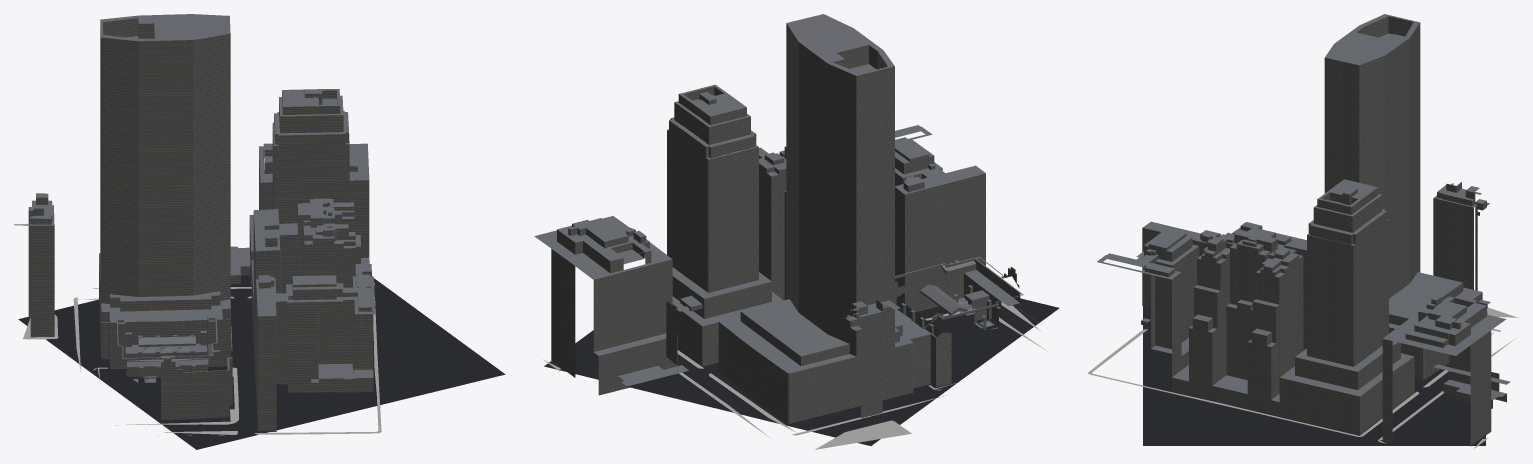
3 renders of one model, left to right at view 1: azimuth 30°, elevation 25°; view 2: azimuth 150°, elevation 25°; view 3: azimuth 270°, elevation 25°, orthographic. The views are drawn at different scales.
Visible parts, largest first — view 1: t6_7, detail; view 2: t6_7, detail; view 3: t6_7, detail.
Boxes of the visible parts, x1,y1,x2,y2 form: t6_7: (14,14,505,449); detail: (23,282,381,435); t6_7: (534,14,1059,445); detail: (543,302,1047,449); t6_7: (1097,14,1510,446); detail: (1088,307,1518,449).
Bounding box in the file's own units: 300 × 246 × 314.
4 materials, 2 textured.
